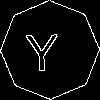Y: (25, 25, 59, 71)
